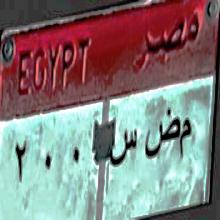0: (42, 148, 54, 180), (71, 144, 82, 170)
2: (13, 136, 29, 192)
daad: (144, 108, 180, 168)
meem: (180, 109, 191, 164)
seen: (108, 123, 138, 175)
